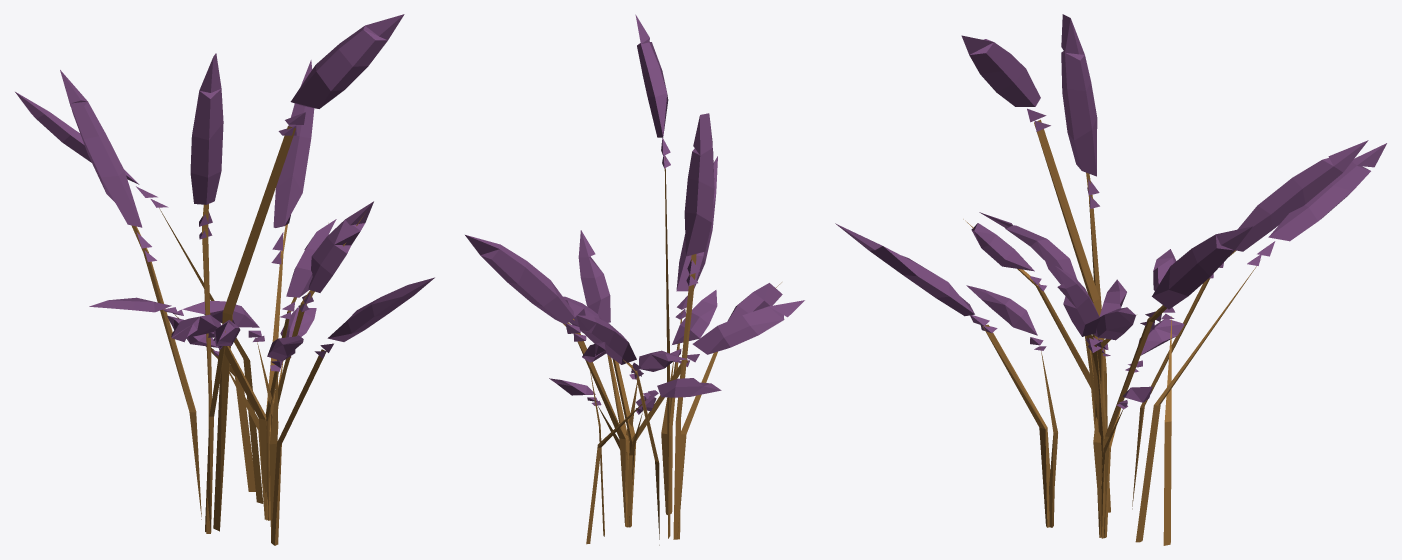
Rendered from SM_Lavender_03.fbx.
3 views of the same model, side by side, from view 1: azimuth 30°, elevation 25°; view 2: azimuth 150°, elevation 25°; view 3: azimuth 270°, elevation 25° (orthographic). The views are drawn at different scales.
Parts seen in each view (by area): view 1: SM_Lavender_03; view 2: SM_Lavender_03; view 3: SM_Lavender_03.
Boxes of the visible parts, x1=… form: SM_Lavender_03: x1=15, y1=14, x2=434, y2=545; SM_Lavender_03: x1=465, y1=14, x2=804, y2=545; SM_Lavender_03: x1=835, y1=14, x2=1386, y2=545.
Bounding box in the file's own units: 128 × 248 × 234.
